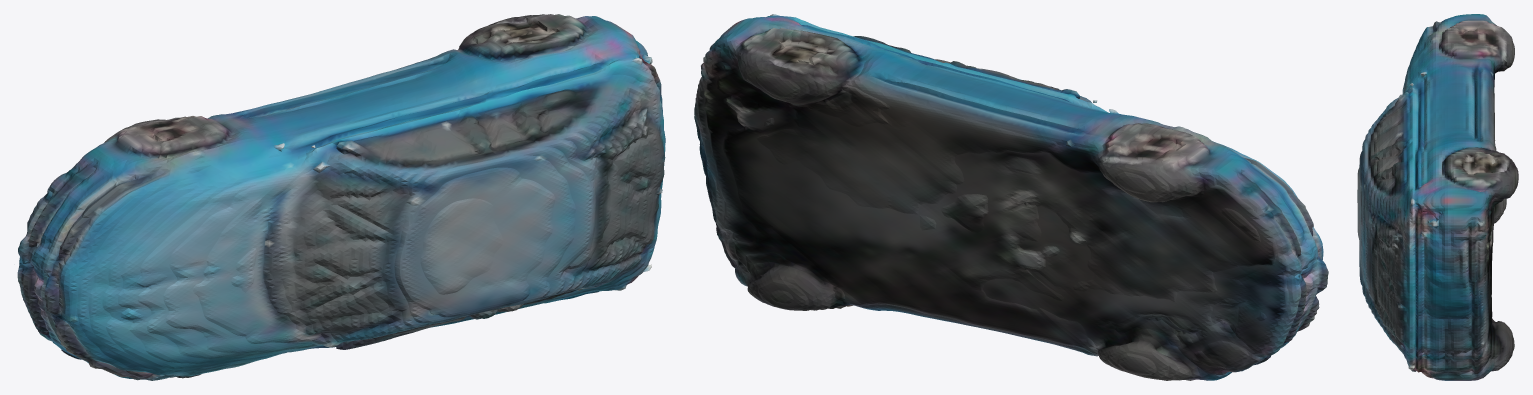
Rendered from calibrated.glb.
3 views of the same model, side by side, from view 1: azimuth 30°, elevation 25°; view 2: azimuth 150°, elevation 25°; view 3: azimuth 270°, elevation 25° (orthographic). The views are drawn at different scales.
Visible parts, largest first — view 1: world; view 2: world; view 3: world.
Part boxes in pixels (box(x1,y1,x2,y2)): world: box(17, 14, 665, 380); world: box(694, 14, 1328, 380); world: box(1357, 14, 1518, 380).
Size of the model in its own units: 4.79 by 1.89 by 1.39.
